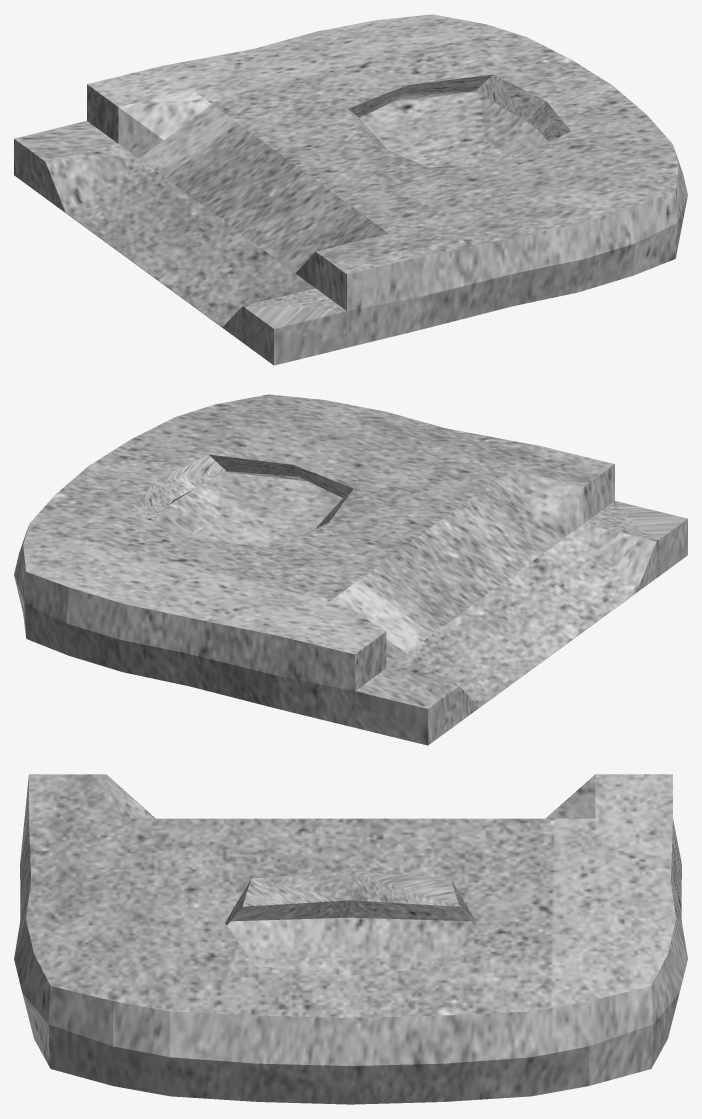
File: entradaEsgoto.fbx
3 renders of one model, top to bottom at view 1: azimuth 30°, elevation 25°; view 2: azimuth 150°, elevation 25°; view 3: azimuth 270°, elevation 25°, orthographic. The views are drawn at different scales.
Parts seen in each view (by area): view 1: Box001; view 2: Box001; view 3: Box001.
Part boxes in pixels (<box>): Box001: <box>14,14,687,365</box>; Box001: <box>14,394,687,745</box>; Box001: <box>14,774,687,1104</box>.
Size of the model in its own units: 46.62 by 45.72 by 6.9.
1 material, 1 textured.
